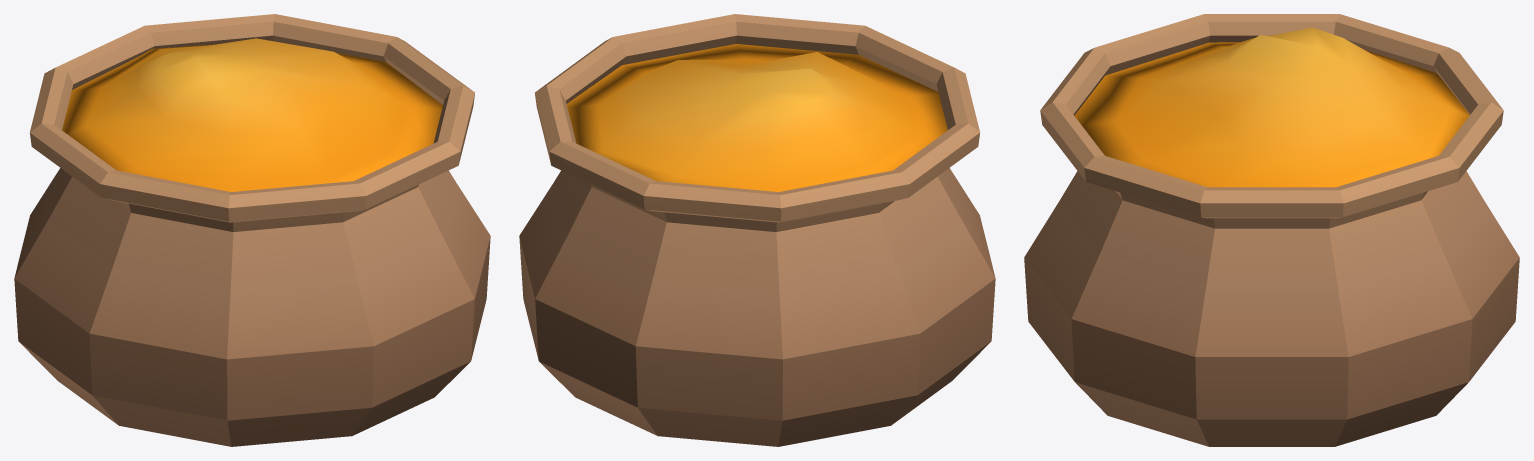
Rendered from Product_2.fbx.
3 renders of one model, left to right at view 1: azimuth 30°, elevation 25°; view 2: azimuth 150°, elevation 25°; view 3: azimuth 270°, elevation 25°, orthographic.
Parts seen in each view (by area): view 1: Product_2; view 2: Product_2; view 3: Product_2.
Part boxes in pixels (<box>): Product_2: <box>14,14,490,446</box>; Product_2: <box>519,14,995,446</box>; Product_2: <box>1024,14,1519,446</box>.
Size of the model in its own units: 34.87 by 27.33 by 36.66.
